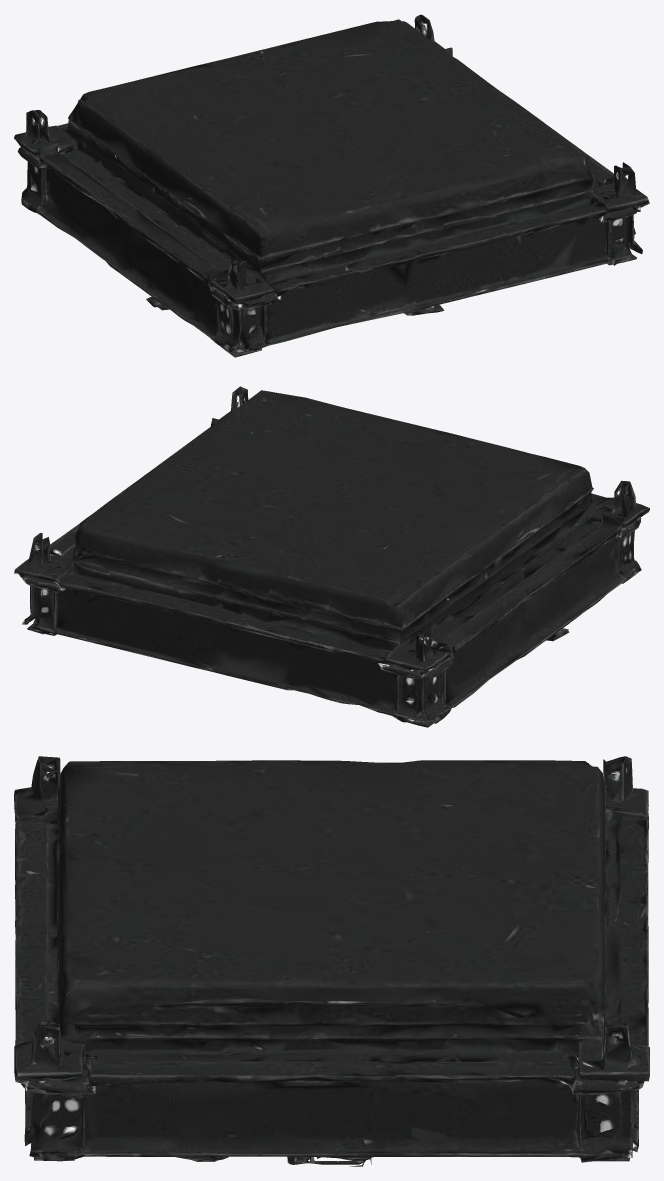
File: ceiling-module-lite.glb
3 views of the same model, one above another, from view 1: azimuth 30°, elevation 25°; view 2: azimuth 150°, elevation 25°; view 3: azimuth 270°, elevation 25° (orthographic). The views are drawn at different scales.
Size of the model in its own units: 1.9 by 0.5503 by 1.78.
1 material, 1 textured.
